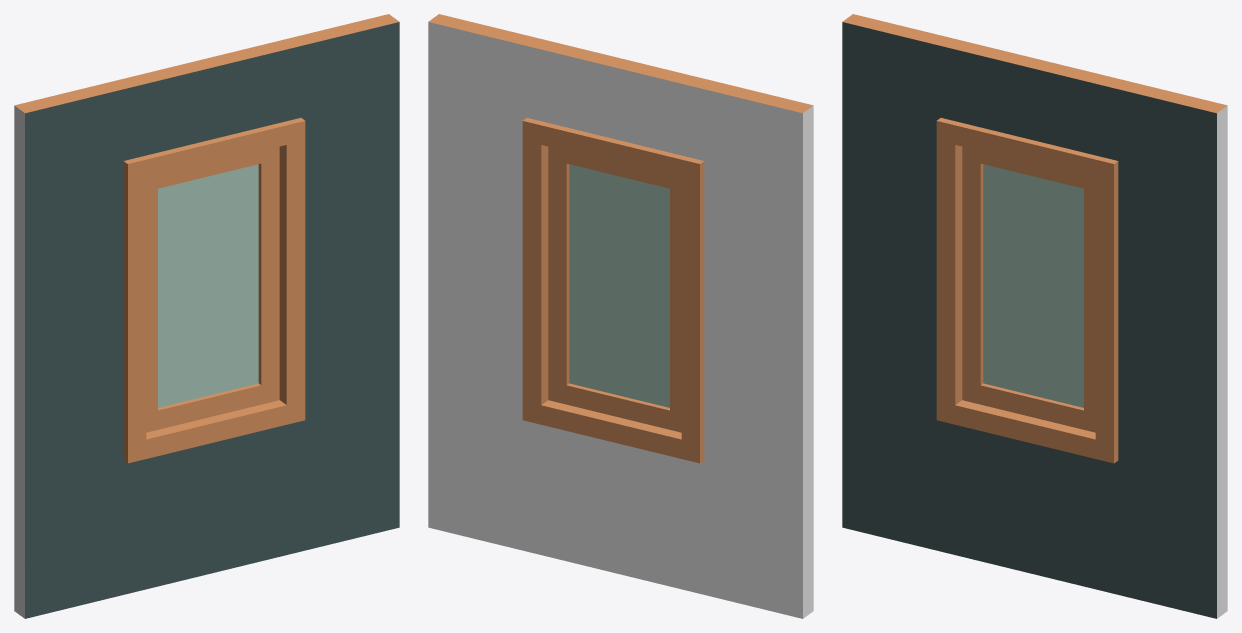
File: Wall_Wall_Window.glb
The picture shows the model from 3 angles, left to right: view 1: azimuth 30°, elevation 25°; view 2: azimuth 150°, elevation 25°; view 3: azimuth 330°, elevation 25°; orthographic projection.
Parts seen in each view (by area): view 1: wallWindow, window; view 2: wallWindow, window; view 3: wallWindow, window.
Part boxes in pixels (bbox=[...]): wallWindow: bbox=[14, 14, 399, 618]; window: bbox=[146, 146, 279, 432]; wallWindow: bbox=[428, 14, 813, 618]; window: bbox=[548, 146, 681, 432]; wallWindow: bbox=[842, 14, 1227, 618]; window: bbox=[962, 146, 1095, 432].
Size of the model in its own units: 1 by 1.29 by 0.0891.
